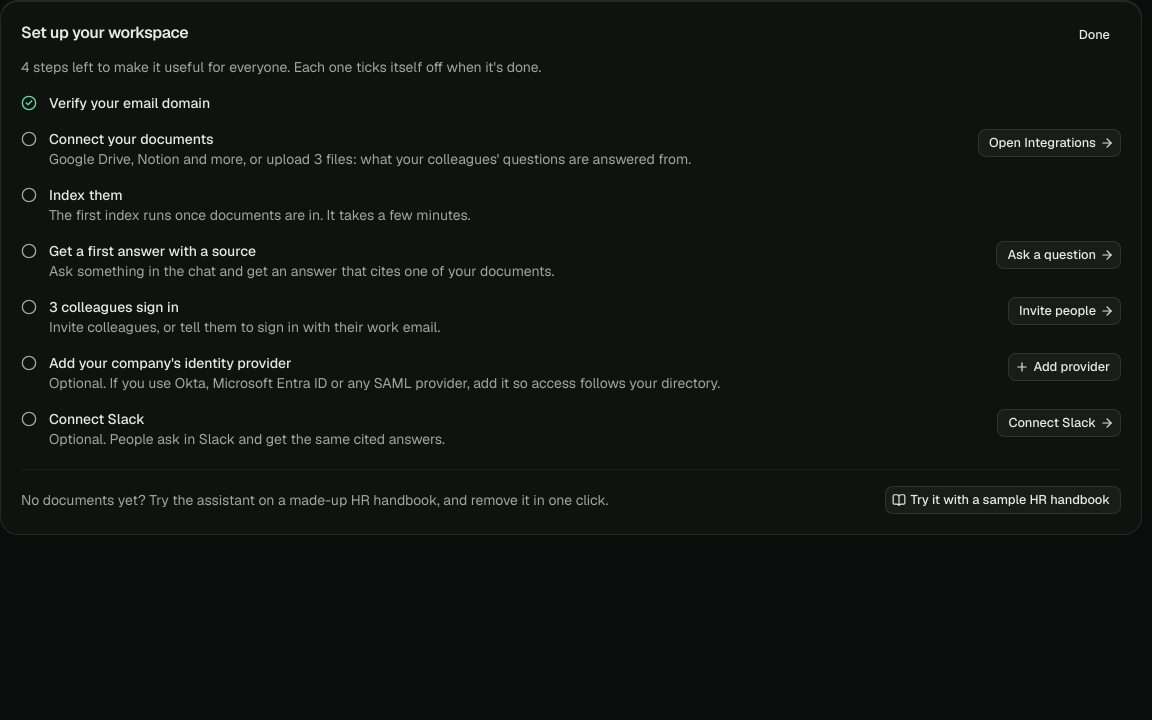
Test: OnboardingChecklist › adds the sample HR handbook and removes it in one click
Click the button "Try it with a sample HR handbook" at coordinates (1003, 500), box [885,486,1121,514]
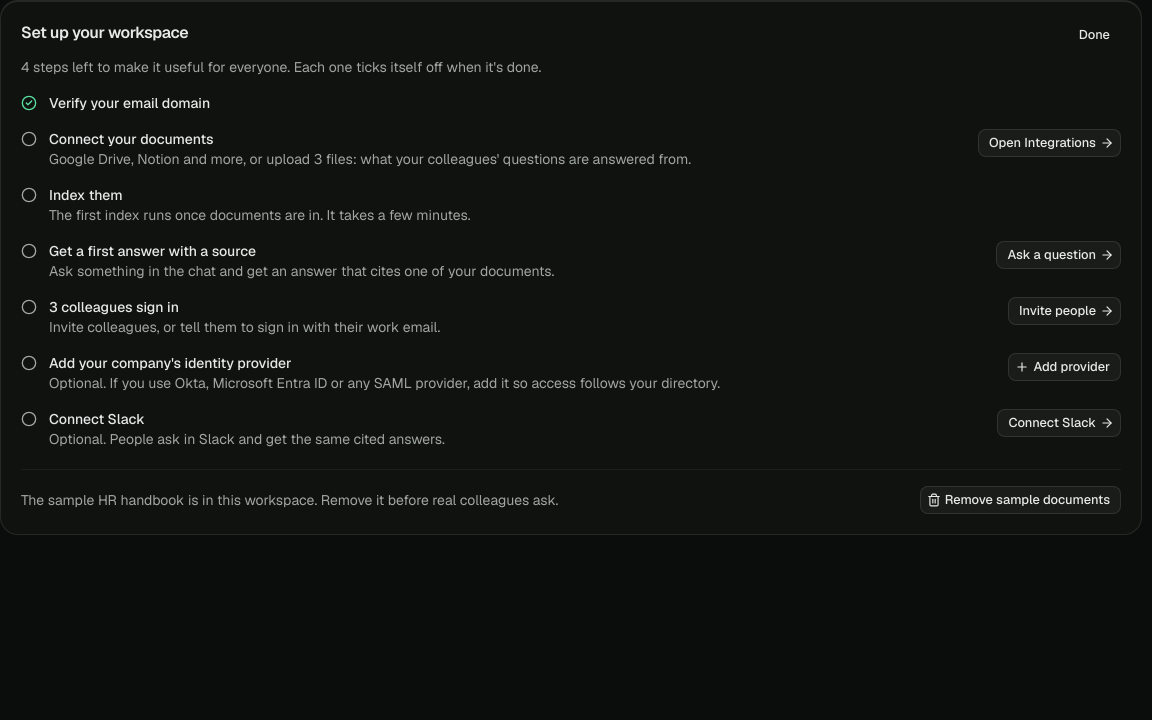
Click the button "Remove sample documents" at coordinates (1020, 500), box [920,486,1121,514]
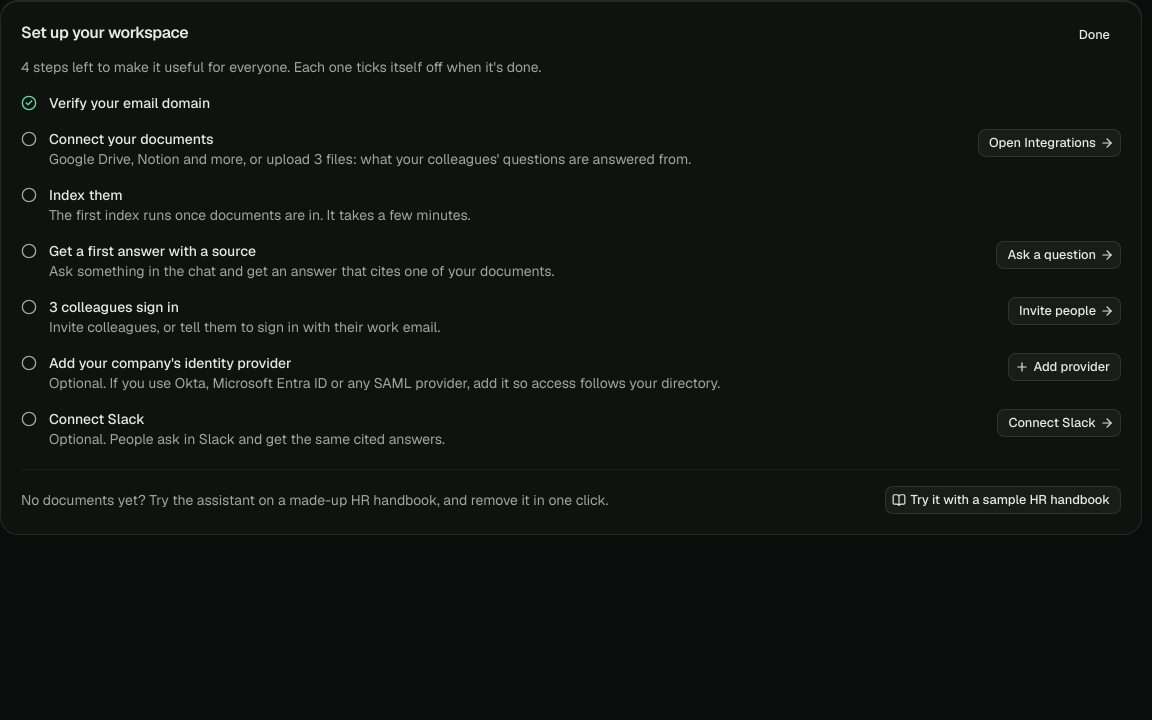
Expected: the button "Try it with a sample HR handbook" is shown, [885,486,1121,514]
